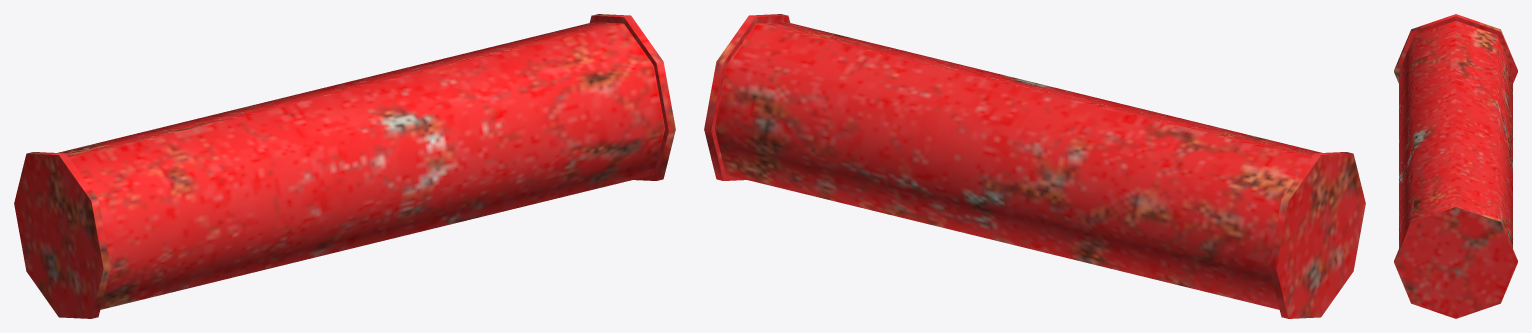
File: SM_PROP_TUBE_01.fbx
3 views of the same model, side by side, from view 1: azimuth 30°, elevation 25°; view 2: azimuth 150°, elevation 25°; view 3: azimuth 270°, elevation 25° (orthographic). The views are drawn at different scales.
Visible parts, largest first — view 1: SM_PROP_TUBE_01; view 2: SM_PROP_TUBE_01; view 3: SM_PROP_TUBE_01.
Boxes of the visible parts, x1=… form: SM_PROP_TUBE_01: x1=14, y1=14, x2=675, y2=318; SM_PROP_TUBE_01: x1=704, y1=14, x2=1365, y2=318; SM_PROP_TUBE_01: x1=1394, y1=14, x2=1517, y2=318.
Size of the model in its own units: 4 by 1.08 by 1.08.
